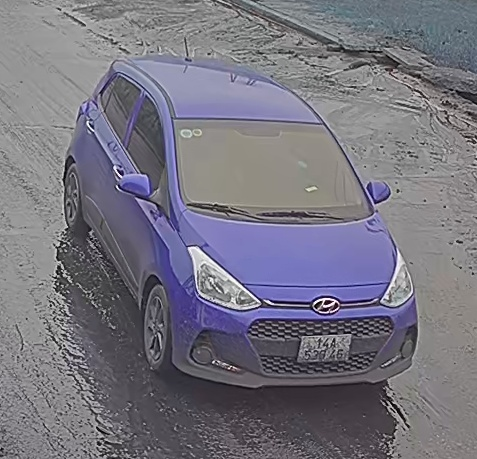vehicle plate: (298, 327, 353, 362)
